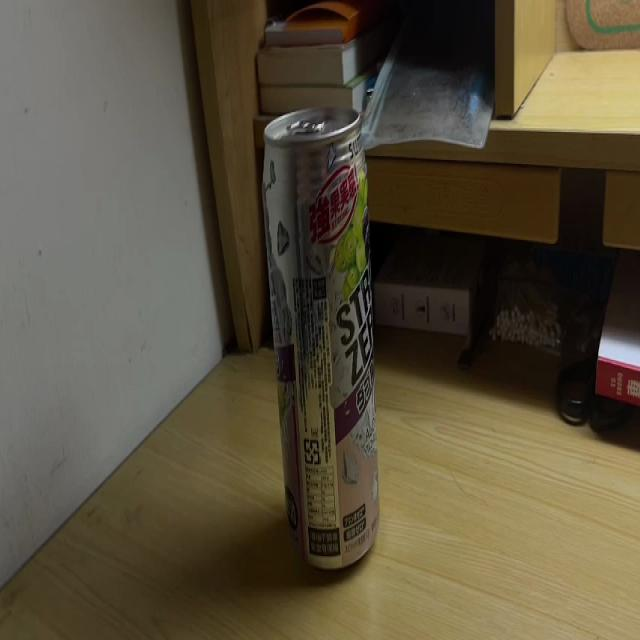Liquor: (262, 106, 381, 576)
